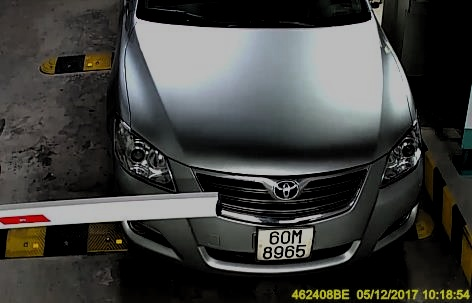plate: (253, 224, 314, 260)
